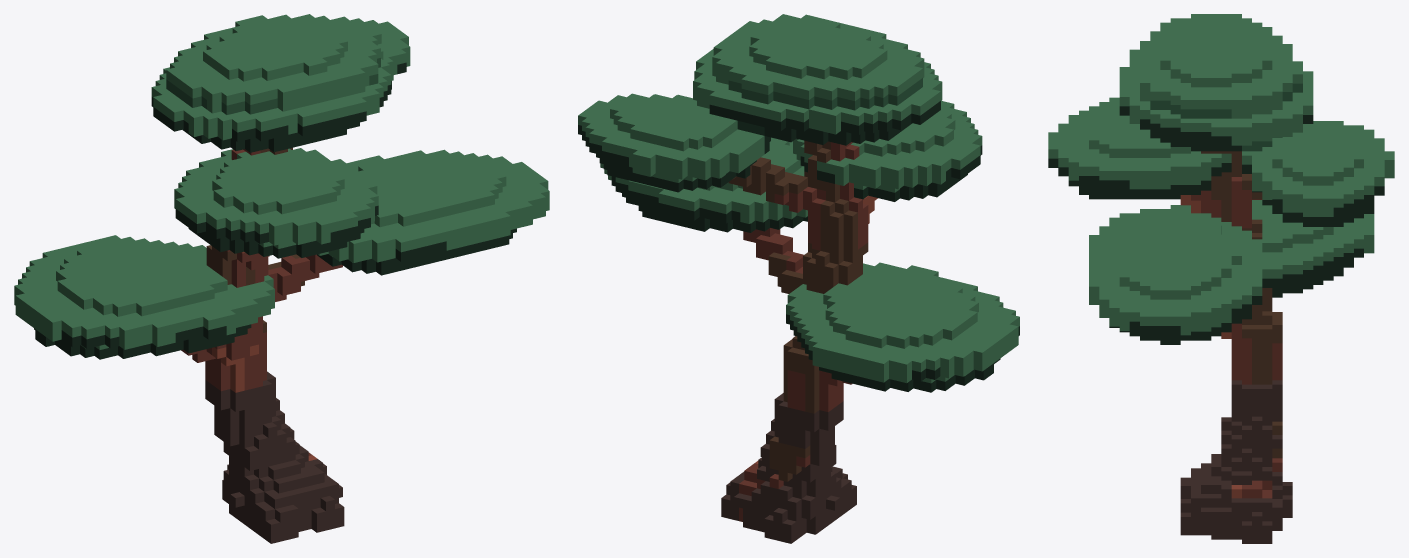
File: Mountain_Pine_v3_B.fbx
3 renders of one model, left to right at view 1: azimuth 30°, elevation 25°; view 2: azimuth 150°, elevation 25°; view 3: azimuth 270°, elevation 25°, orthographic. The views are drawn at different scales.
Parts seen in each view (by area): view 1: Mountain_Pine_v3_B; view 2: Mountain_Pine_v3_B; view 3: Mountain_Pine_v3_B.
Part boxes in pixels (left/top/right/bottom): Mountain_Pine_v3_B: left=14, top=14, right=549, bottom=543; Mountain_Pine_v3_B: left=578, top=14, right=1019, bottom=543; Mountain_Pine_v3_B: left=1048, top=14, right=1394, bottom=543.
Size of the model in its own units: 3.27 by 3.33 by 2.27.
1 material, 1 textured.
